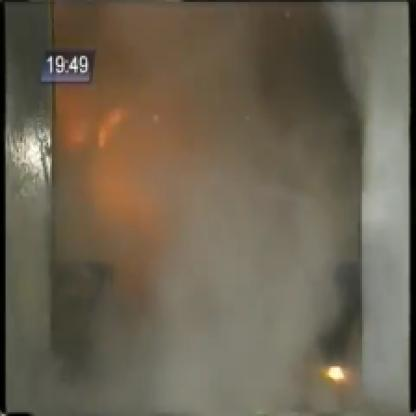fire: (52, 49, 134, 184), (307, 343, 383, 409)
